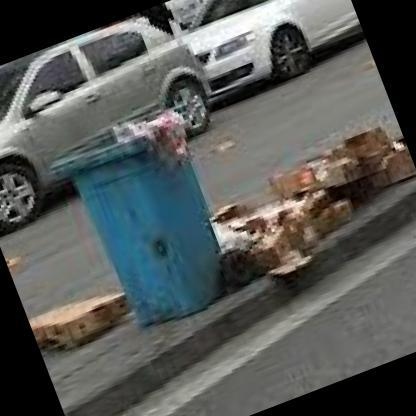Garbage: (275, 126, 415, 229), (221, 173, 340, 284), (28, 284, 134, 352), (116, 104, 195, 171)
